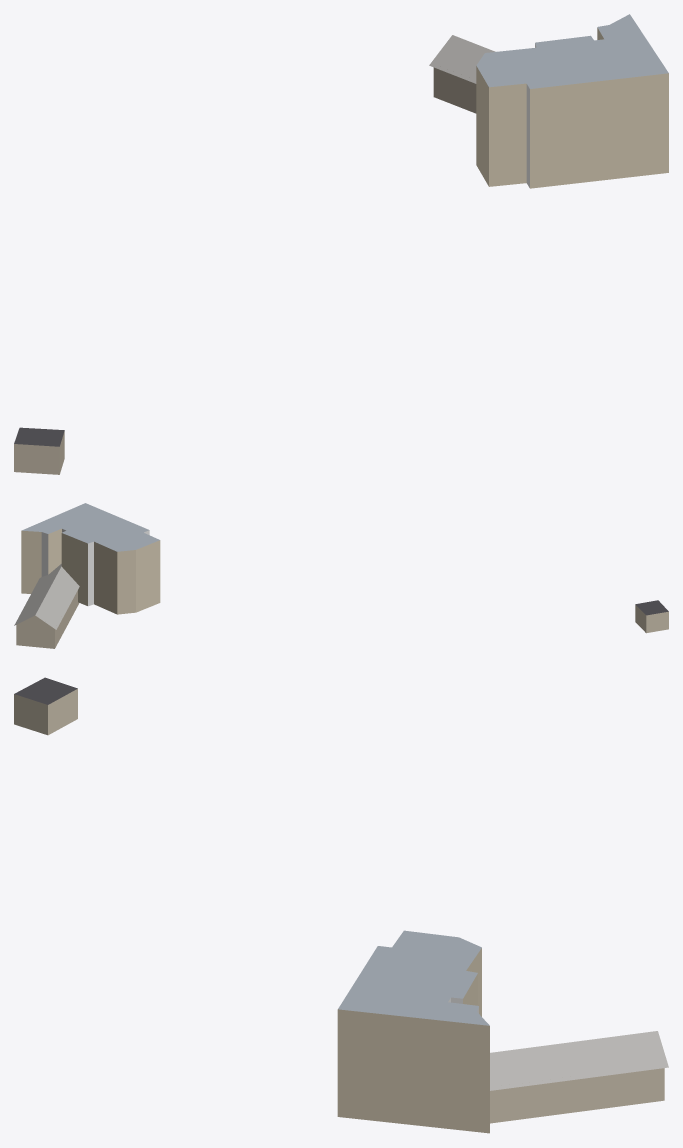
The picture shows the model from 3 angles, top to bottom: view 1: azimuth 30°, elevation 25°; view 2: azimuth 150°, elevation 25°; view 3: azimuth 270°, elevation 25°; orthographic projection. The views are drawn at different scales.
Parts seen in each view (by area): view 1: tuile; view 2: tuile; view 3: tuile.
Boxes of the visible parts, x1,y1,x2,y2 form: tuile: (14,14,668,474); tuile: (14,503,668,648); tuile: (14,677,668,1133).
Bounding box in the file's own units: 102 × 12.7 × 65.34.
